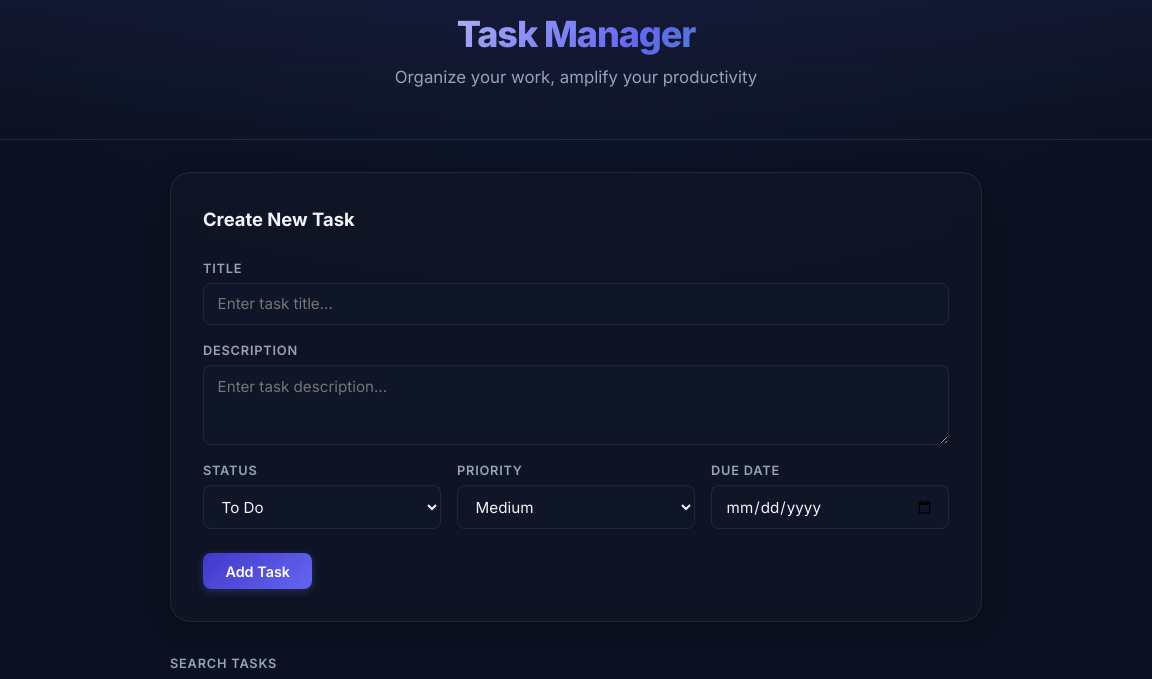
it: Dashboard › creating a task › adds a new task and displays it in the list
Type "My New Task" into the field labelled "Title" at {"x": 576, "y": 304}, box [203, 283, 949, 325]
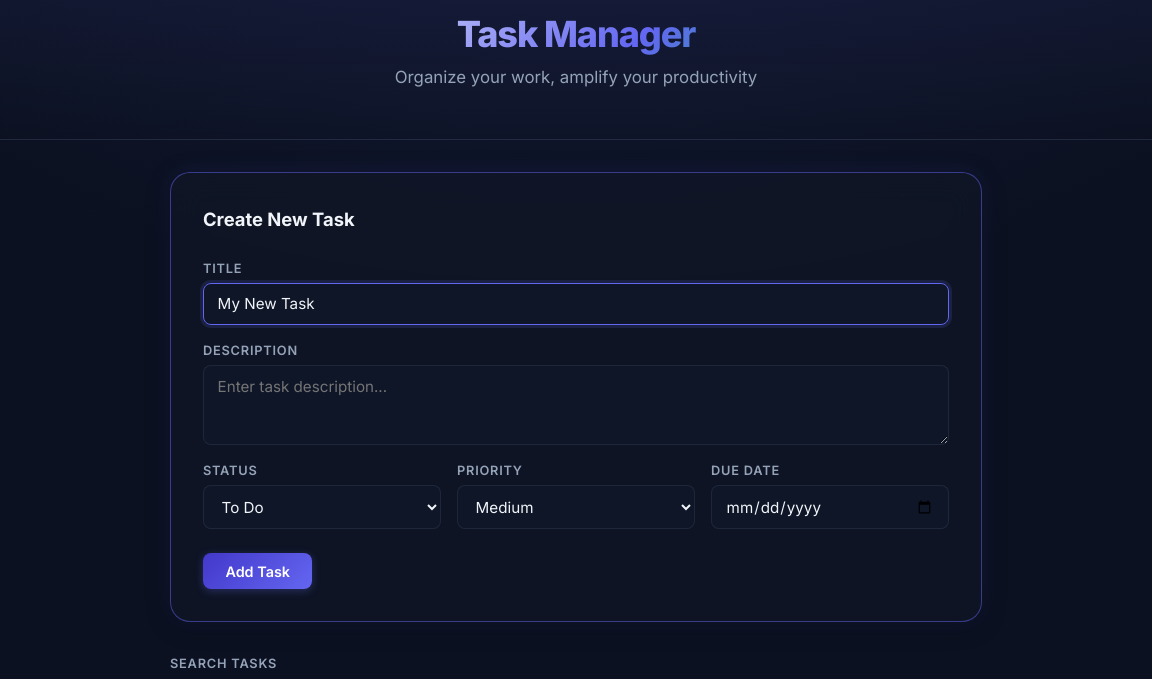
Type "A description" into the text box labelled "Description" at {"x": 576, "y": 405}, box [203, 365, 949, 445]
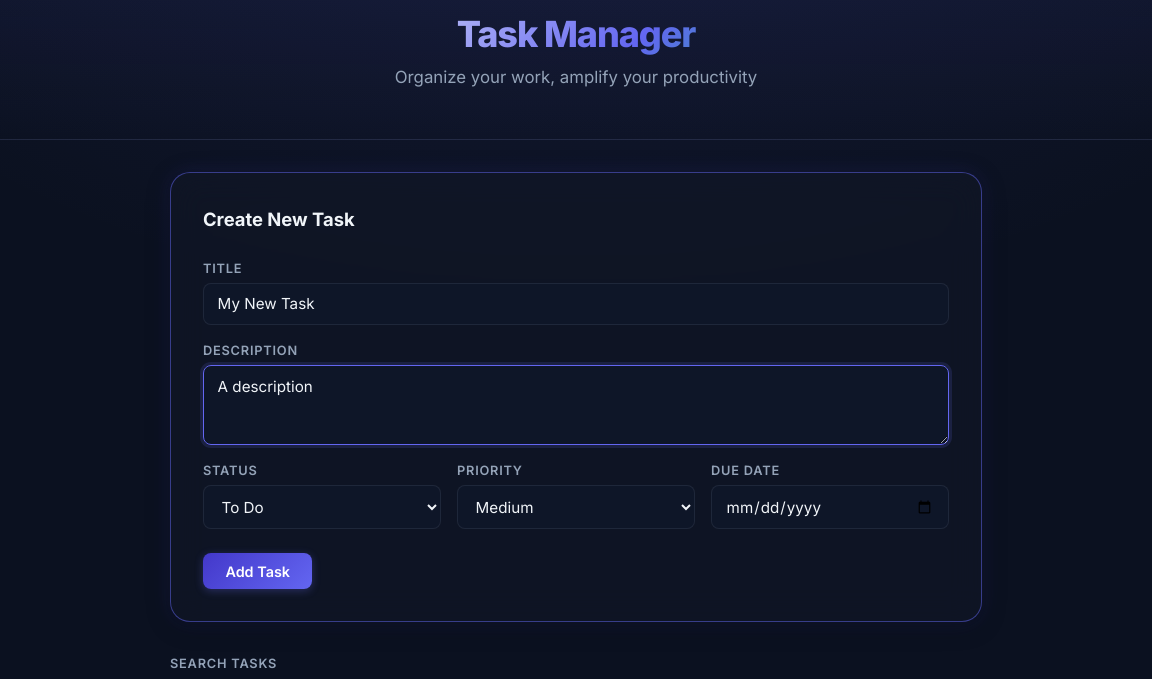
Select "To Do" in the dropdown labelled "Status" at {"x": 322, "y": 507}, box [203, 486, 441, 529]
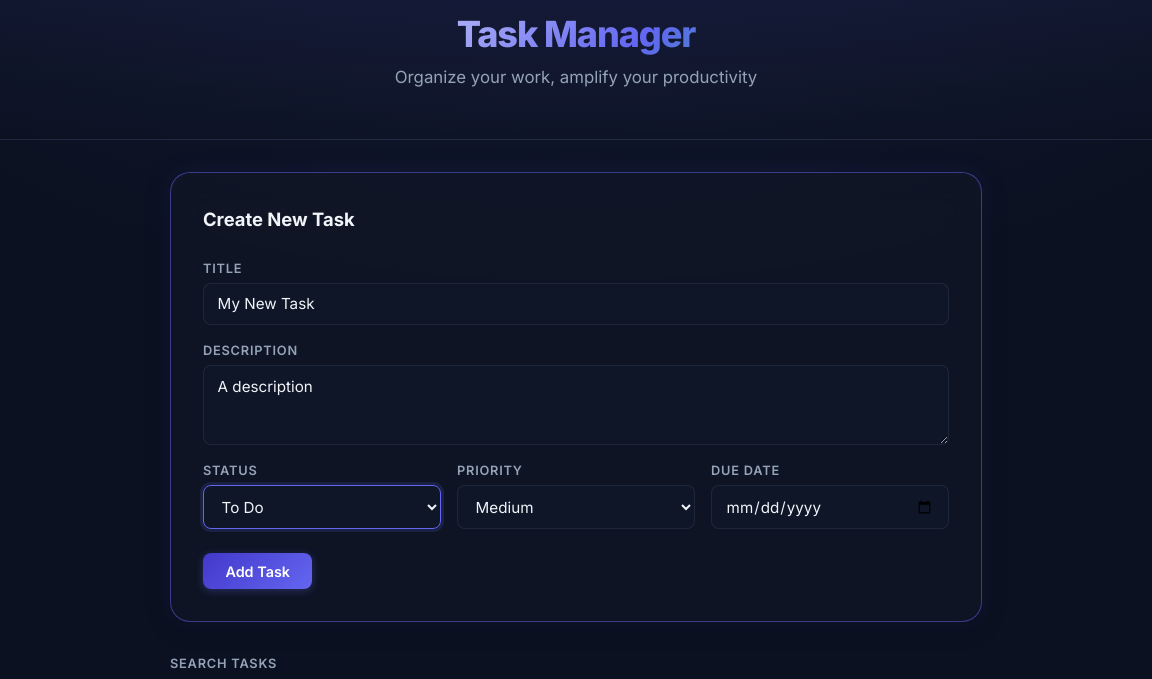
Select "High" in the dropdown labelled "Priority" at {"x": 576, "y": 507}, box [457, 486, 695, 529]
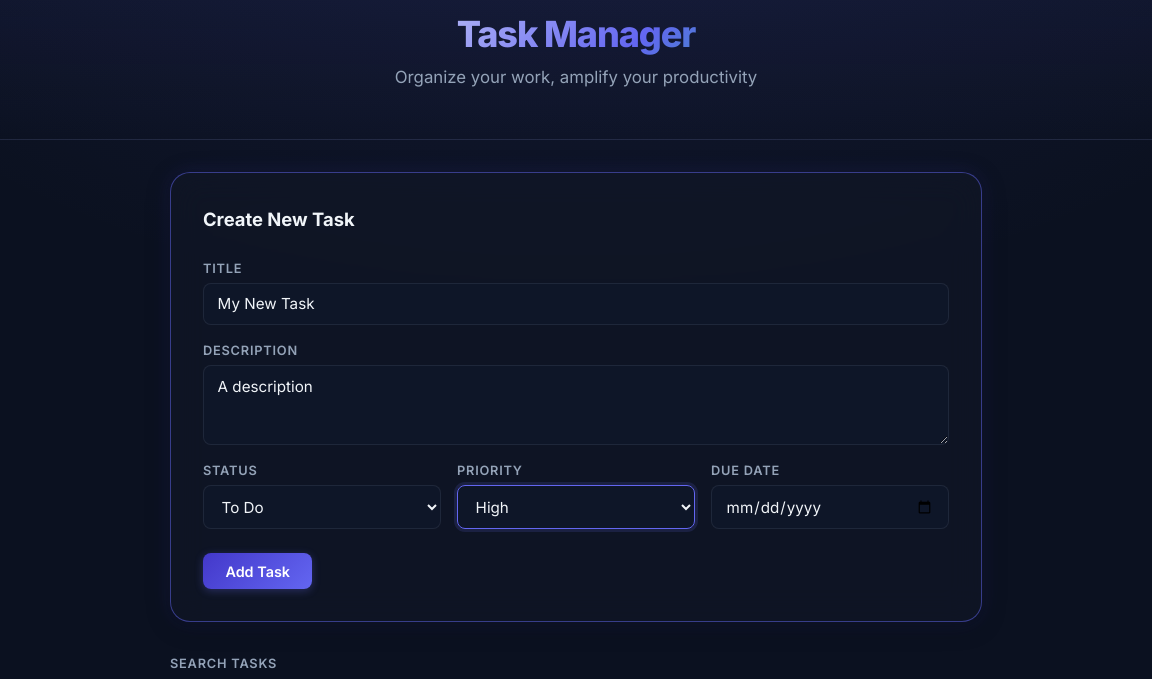
Type "2026-06-12" into the date field labelled "Due Date" at {"x": 830, "y": 507}, box [711, 486, 949, 529]
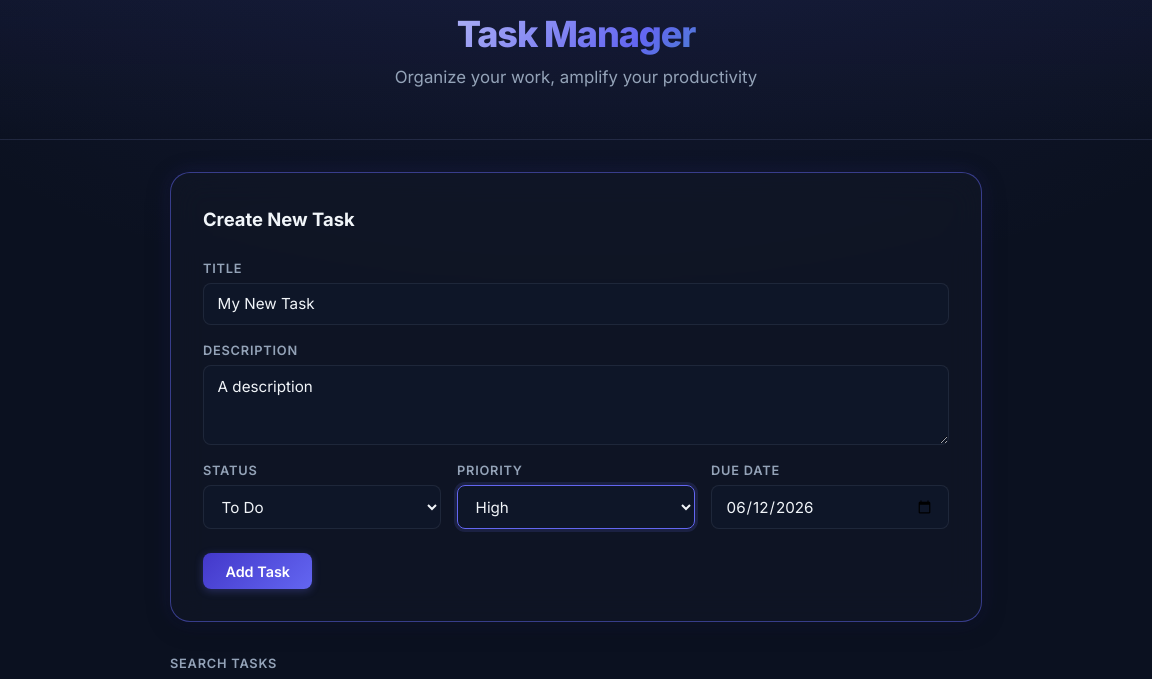
Click the button "Add Task" at {"x": 258, "y": 571}, box [203, 553, 312, 590]
(page scrolled)
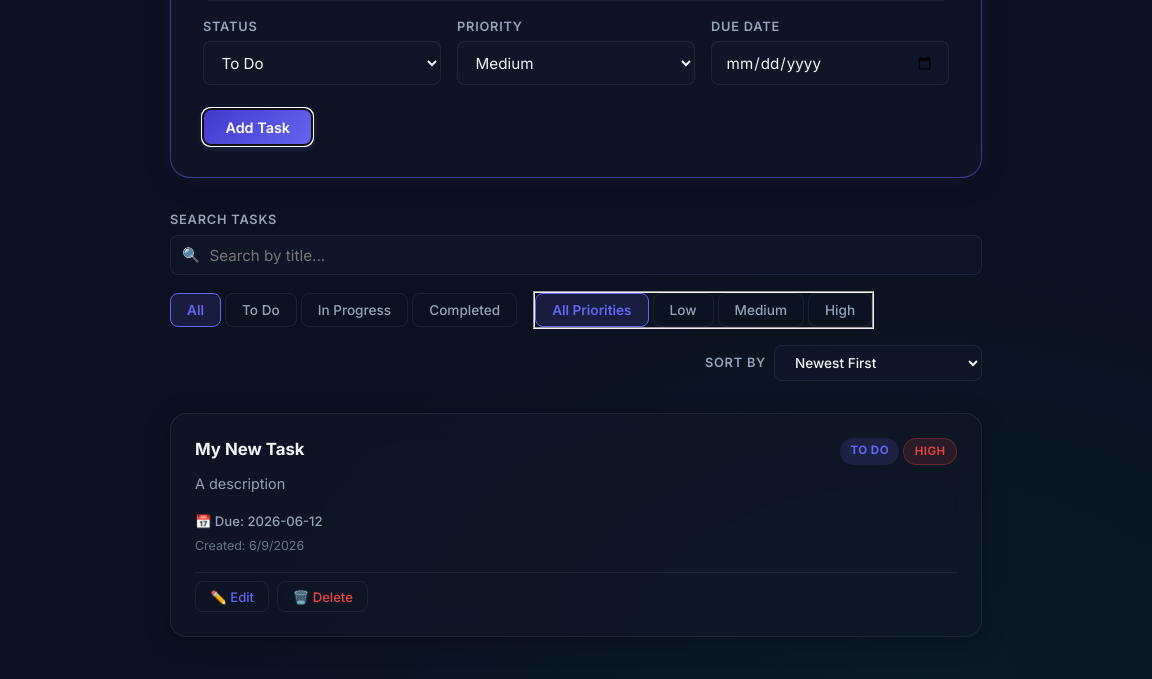
Now the heading "My New Task" is shown, box [195, 438, 304, 462]
Now the text "A description" is shown, box [195, 475, 285, 492]
Now the text "To Do" is shown, box [840, 438, 899, 465]
